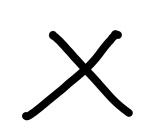mult: (19, 29, 133, 118)
